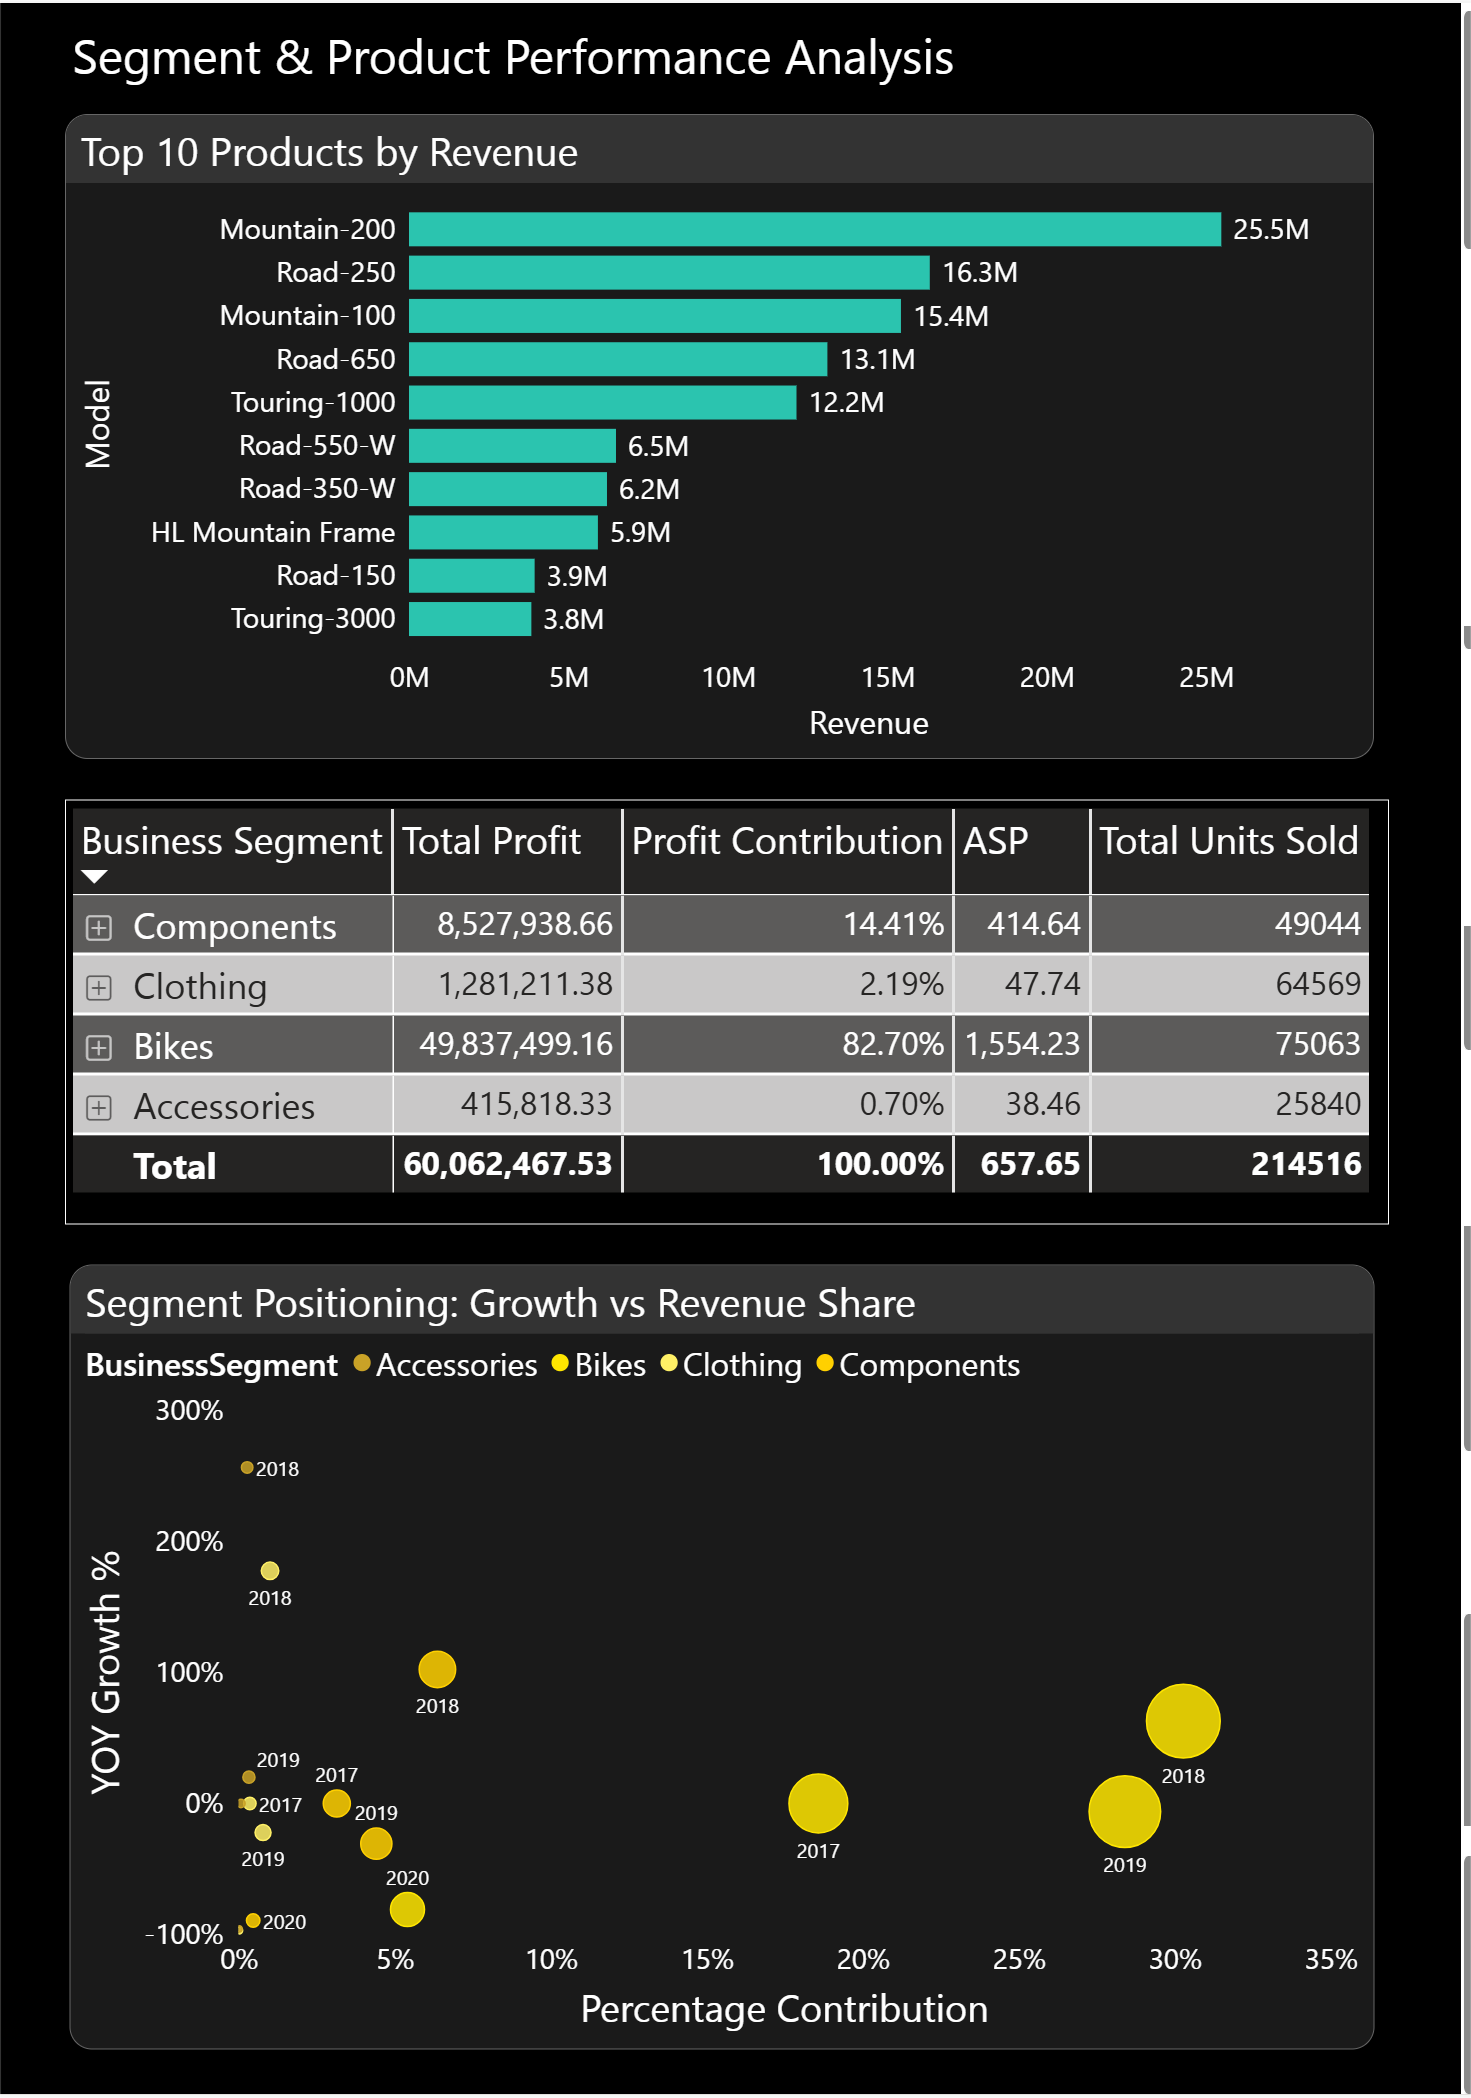

Layout of this report page (visuals, bound fields, positions):
{"tool":"powerbi","page":{"name":"Bike Data 2","canvas":[900,1400],"ordinal":1},"visuals":[{"type":"textbox","box":[10.4,13.4,636.7,66.9],"z":0},{"type":"pivotTable","fields":{"Rows":["Bike_Data.BusinessSegment","Bike_Data.Category"],"Values":["Measure.TOTAL_PROFIT","Measure.Percentage_Contribution","Measure.ASP","Measure.Total_OrderQty"]},"box":[10,536.7,883.3,283.3],"z":1000},{"type":"barChart","title":"Top 10 Products by Revenue","fields":{"Y":["Measure.Total_Sales"],"Category":["Bike_Data.Model"]},"box":[10,80,873.3,430],"z":2000},{"type":"scatterChart","title":"Segment Positioning: Growth vs Revenue Share","fields":{"Series":["Bike_Data.BusinessSegment"],"X":["Measure.Percentage_Contribution"],"Size":["Measure.Total_Sales"],"Category":["DateMaster.Year"],"Y":["Measure.YOY SALES"]},"box":[13.3,846.7,870,523.3],"z":3000}]}

Visuals, with their boxes on the page's 900x1400 design canvas (x1, y1, x2, y2). These are canvas units, not pixel positions in the 1471x2098 screenshot, which may show the page scaled, cropped or inside an application window:
textbox: (10,13,647,80)
pivotTable - Bike_Data.BusinessSegment x Bike_Data.Category: (10,537,893,820)
"Top 10 Products by Revenue" barChart: (10,80,883,510)
"Segment Positioning: Growth vs Revenue Share" scatterChart: (13,847,883,1370)
